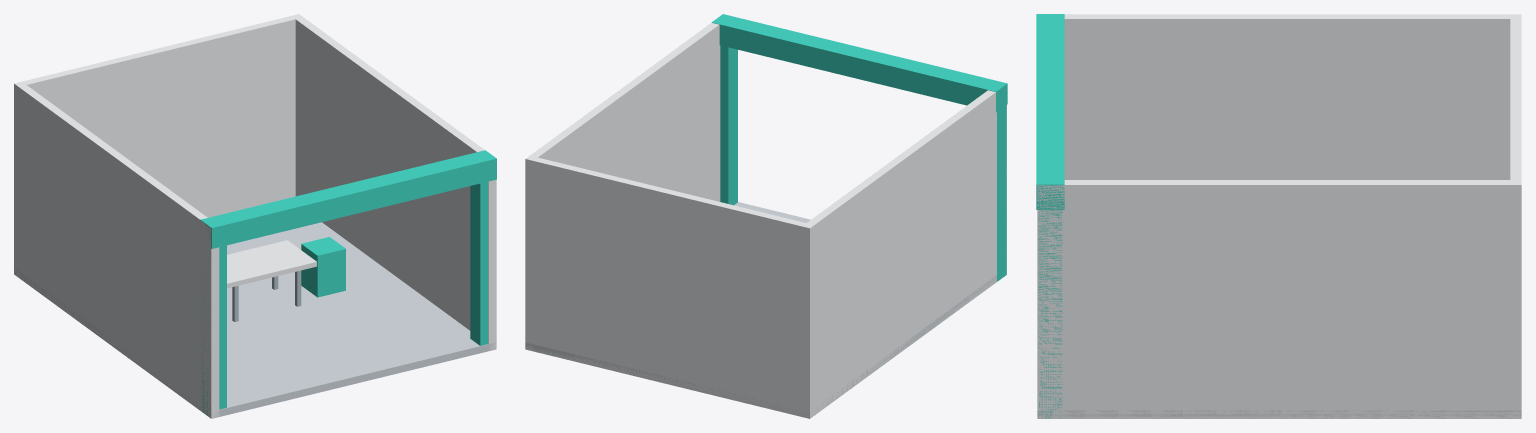
3 views of the same model, side by side, from view 1: azimuth 30°, elevation 25°; view 2: azimuth 150°, elevation 25°; view 3: azimuth 270°, elevation 25° (orthographic). The views are drawn at different scales.
Visible parts, largest first — view 1: Exhibition Booth Concept; view 2: Exhibition Booth Concept; view 3: Exhibition Booth Concept.
Part boxes in pixels (x1,y1,x2,y2): Exhibition Booth Concept: (14,14,496,418); Exhibition Booth Concept: (525,14,1007,418); Exhibition Booth Concept: (1036,14,1521,418).
Bounding box in the file's own units: 5 × 3.2 × 6.02.
